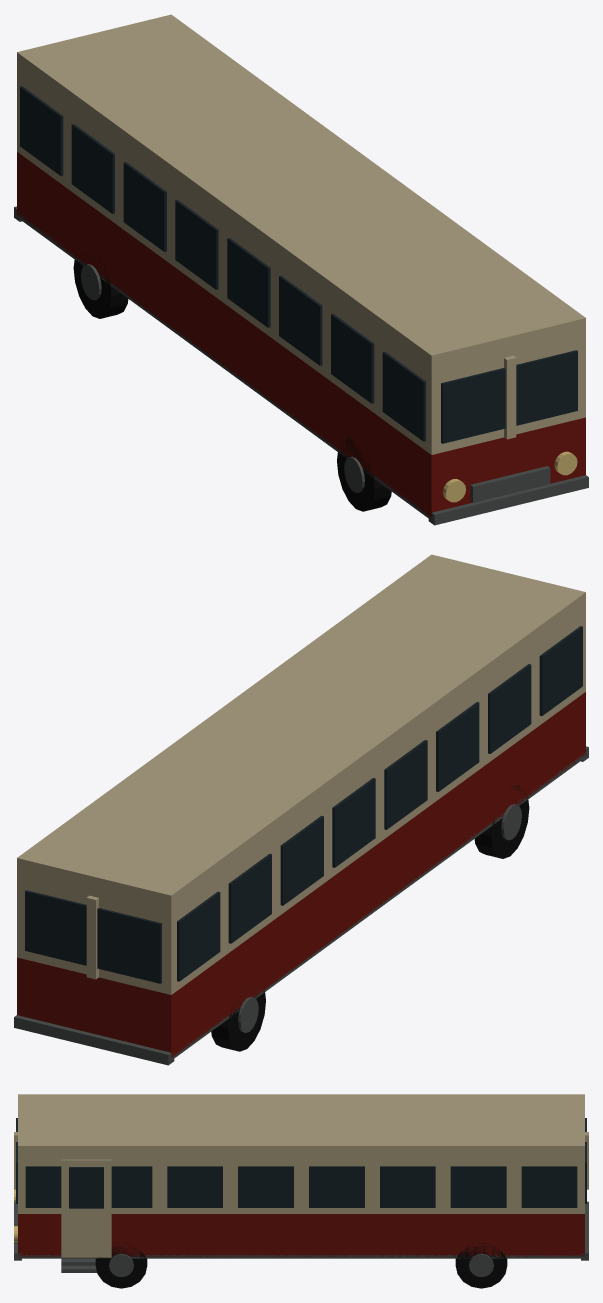
The model's file is bus.glb.
The picture shows the model from 3 angles, top to bottom: view 1: azimuth 30°, elevation 25°; view 2: azimuth 150°, elevation 25°; view 3: azimuth 270°, elevation 25°; orthographic projection. The views are drawn at different scales.
Visible parts, largest first — view 1: bus; view 2: bus; view 3: bus.
Boxes of the visible parts, box(x1,y1,x2,y2) form: bus: box(14, 14, 588, 525); bus: box(14, 554, 588, 1065); bus: box(14, 1094, 588, 1288).
Size of the model in its own units: 2.56 by 3.15 by 11.5.
